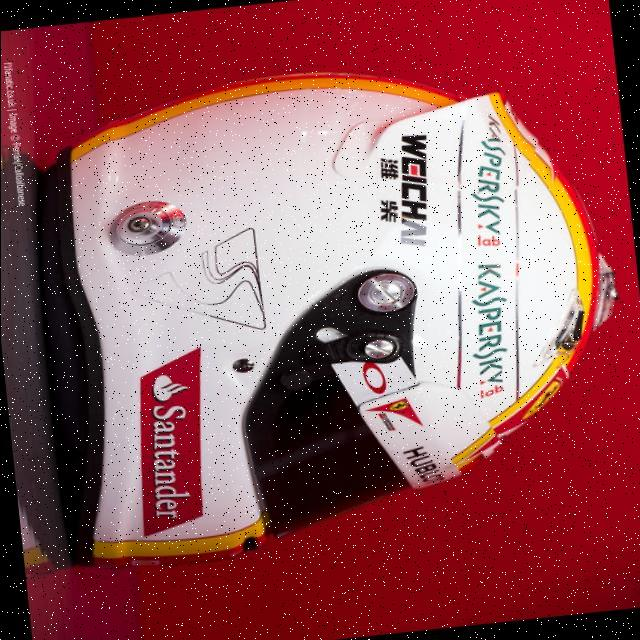Helm: (20, 40, 640, 583)
